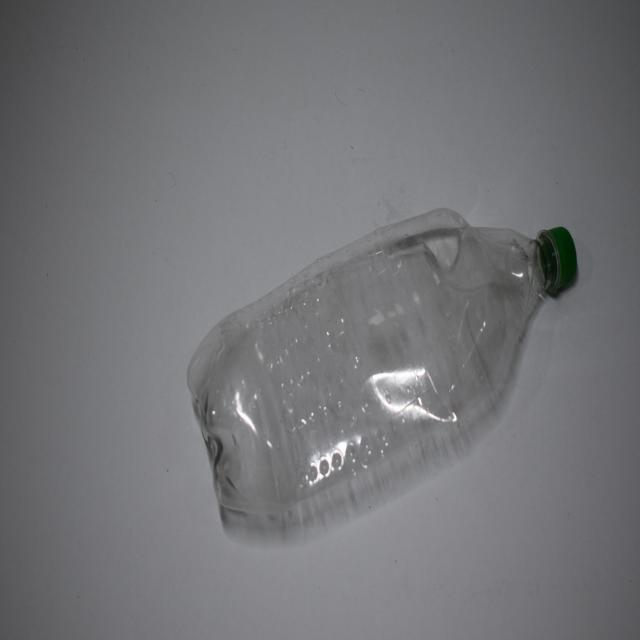bottle: (176, 196, 562, 552)
